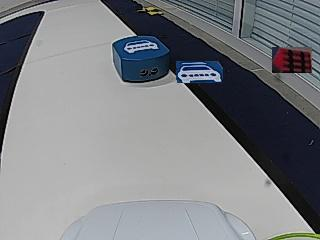safety: (124, 39, 157, 53)
